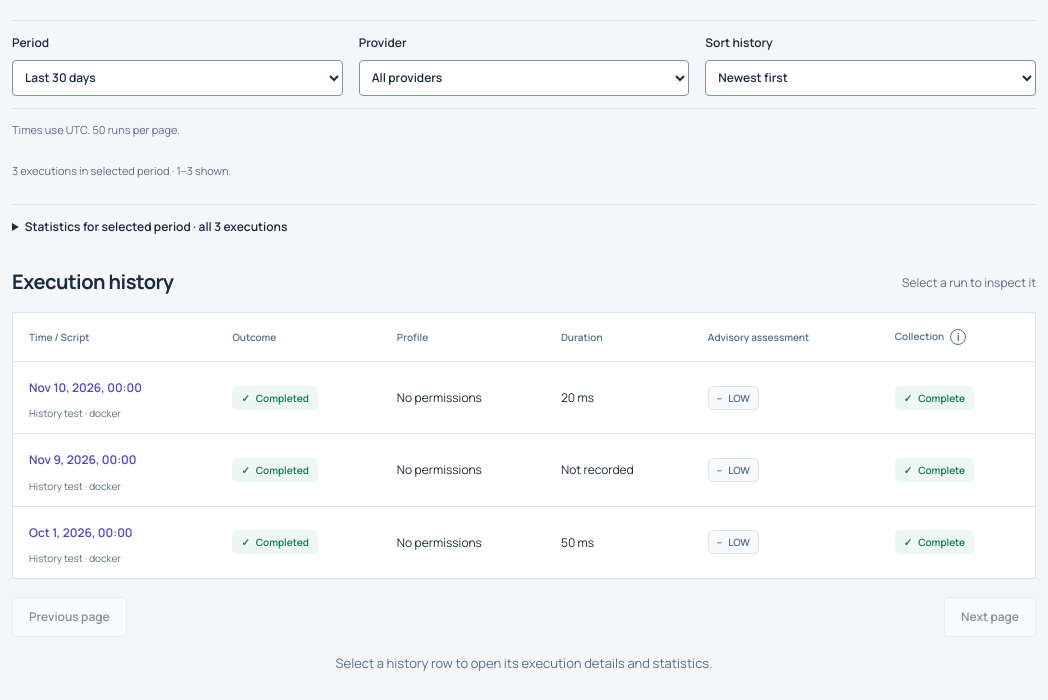
Test: opens with history only even if App already has a selected run
Expected: the heading "Execution history" is shown, x1=12 y1=268 x2=173 y2=296
Expected: the text "Evidence for new" is not shown
Step 1. Click the button with aria-label "Select execution 1" → point(86, 388), box x1=29 y1=374 x2=142 y2=401
(page scrolled)
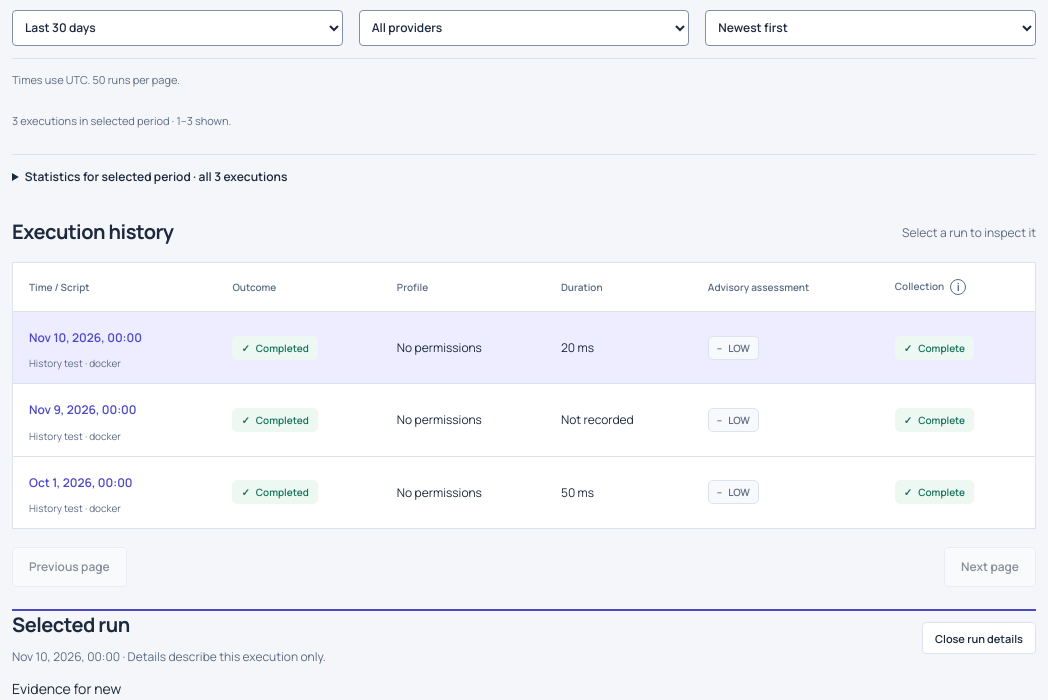
Expected: the text "Evidence for new" is shown, x1=12 y1=679 x2=121 y2=698
Step 2. Click the button "Close run details" → point(979, 638), box x1=922 y1=622 x2=1036 y2=654
(page scrolled)
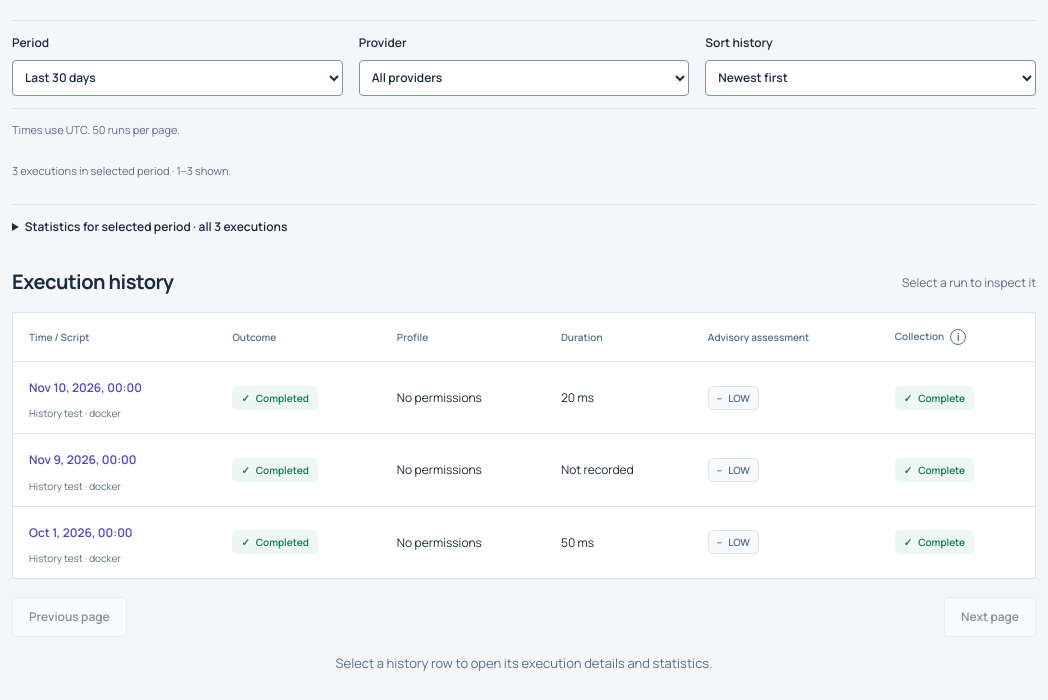
Expected: the text "Evidence for new" is gone
